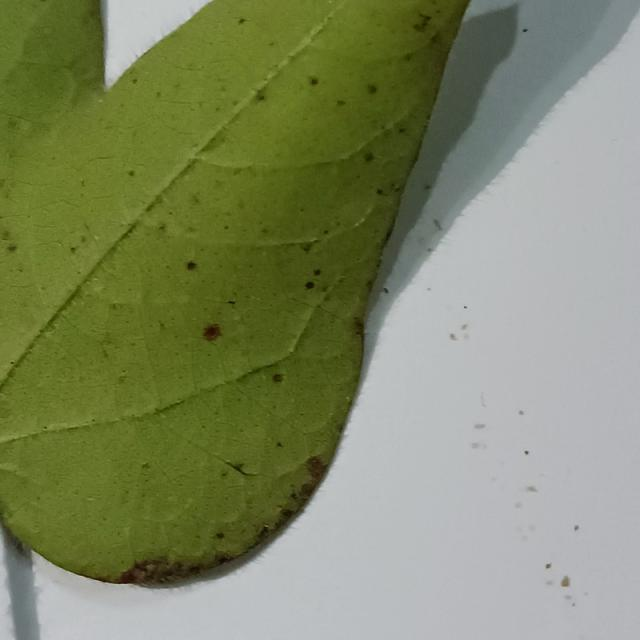Bacterial_Blight: (121, 558, 180, 583), (201, 317, 228, 344), (222, 459, 258, 478), (299, 478, 320, 497), (119, 568, 144, 583), (413, 15, 432, 33), (307, 456, 325, 474), (301, 240, 316, 253), (559, 575, 571, 587), (367, 83, 378, 94), (364, 151, 375, 162), (272, 373, 283, 383), (186, 261, 197, 270), (305, 281, 315, 290), (256, 92, 266, 101), (309, 77, 319, 86), (141, 461, 151, 470), (7, 244, 17, 252), (336, 99, 346, 107), (313, 268, 321, 276), (376, 188, 384, 196), (215, 532, 224, 539), (128, 169, 135, 177), (276, 441, 284, 447)
Cotton: (0, 0, 466, 583)
